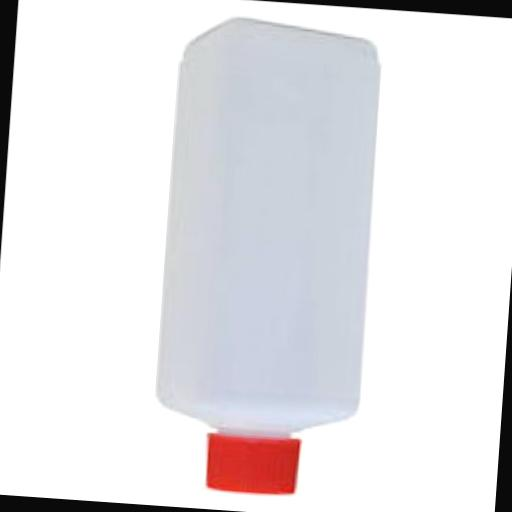plastic: (145, 15, 383, 498), (197, 434, 302, 496)
